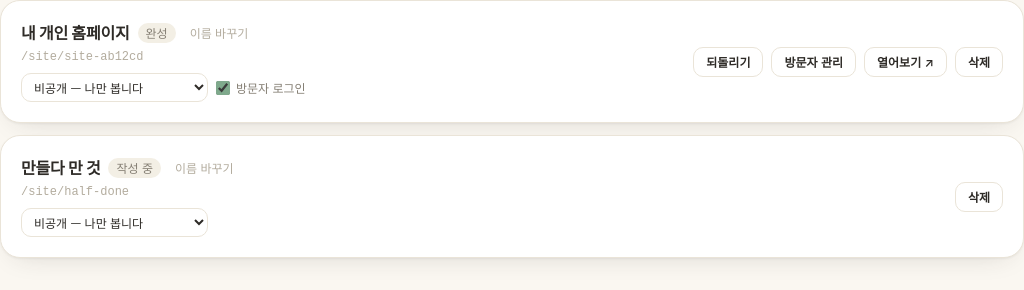
Scenario: [P7-1b] 프로젝트 이름 바꾸기 › 이름 바꾸기를 누르면 입력칸이 나오고 저장하면 반영된다
Click the button "이름 바꾸기" next to "완성": point(219, 33) [184,23,254,43]
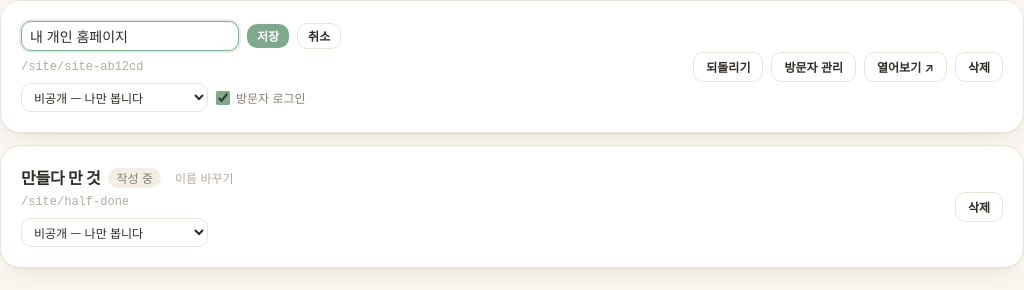
Replace the text in the field named "프로젝트 이름" with "소금빵 가게": point(130, 36) [21,21,239,51]
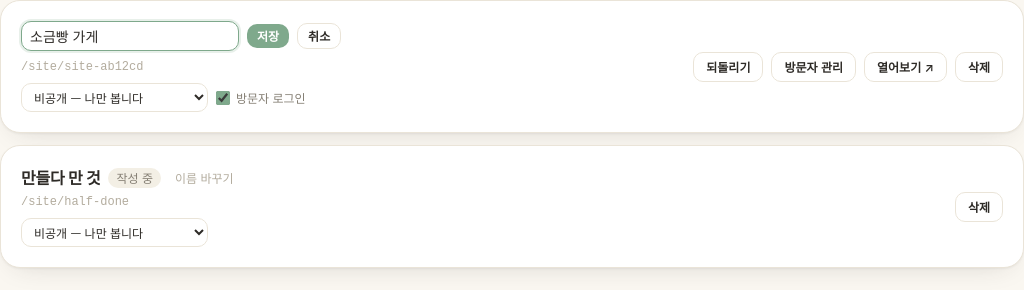
Click the button "저장": point(268, 36) [247,24,289,48]
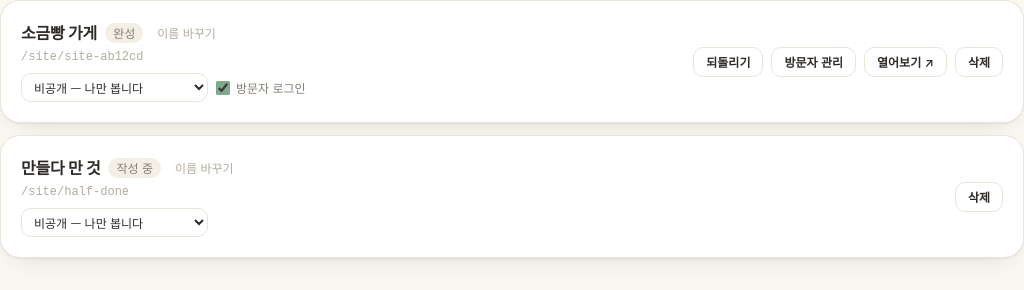
Expected: the heading "소금빵 가게" is shown, [21,21,97,45]
